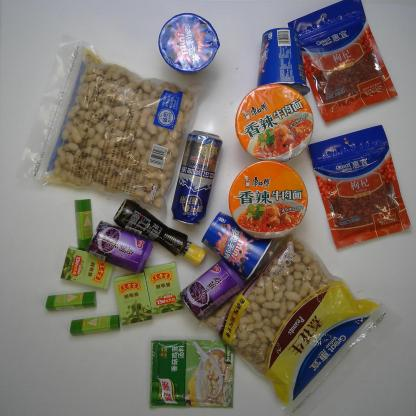Alcohol: (167, 125, 224, 228)
Candy: (57, 242, 117, 294), (138, 259, 186, 318), (110, 270, 155, 327)
Canned Food: (178, 254, 247, 323), (84, 219, 154, 276)
Dessert: (199, 208, 276, 282), (252, 25, 312, 99), (154, 12, 222, 75)
Dried Food: (194, 226, 402, 415), (13, 30, 205, 222)
Dried Fruit: (284, 0, 400, 124), (304, 123, 414, 251)
Instant Noodles: (224, 157, 314, 243), (232, 81, 316, 165)
Seasoner: (112, 195, 208, 269), (145, 338, 239, 410)
Stationery: (41, 289, 100, 315), (68, 312, 124, 338), (70, 195, 95, 252)
